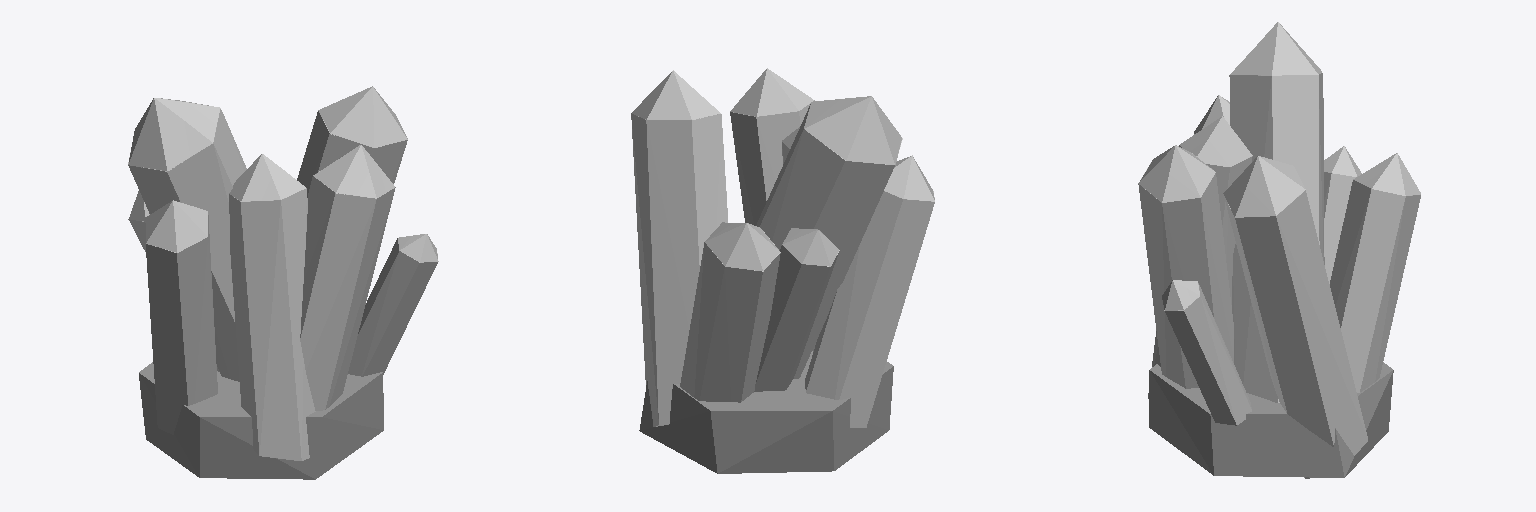
Rendered from solis_crystals2.obj.
3 renders of one model, left to right at view 1: azimuth 30°, elevation 25°; view 2: azimuth 150°, elevation 25°; view 3: azimuth 270°, elevation 25°, orthographic.
Visible parts, largest first — view 1: Cylinder.002_Cylinder.005, Cylinder.029_Cylinder.030, Cylinder.027_Cylinder.028, Cylinder.003_Cylinder.006, Cylinder.006_Cylinder.000, Cylinder.005_Cylinder.008, Cone.007_Cone.000, Cone.002_Cone.004, Cylinder.001_Cylinder.004, Cone.004_Cone.006, Cone.001, Cone.003_Cone.005 (+1 smaller); view 2: Cylinder.001_Cylinder.004, Cylinder.029_Cylinder.030, Cylinder.003_Cylinder.006, Cylinder.006_Cylinder.000, Cylinder.000_Cylinder.003, Cylinder.004_Cylinder.007, Cone.007_Cone.000, Cylinder.027_Cylinder.028, Cone.000_Cone.003, Cone.002_Cone.004, Cone.001, Cone.005_Cone.007 (+1 smaller); view 3: Cylinder.001_Cylinder.004, Cylinder.029_Cylinder.030, Cylinder.006_Cylinder.000, Cylinder.000_Cylinder.003, Cylinder.027_Cylinder.028, Cylinder.005_Cylinder.008, Cone.002_Cone.004, Cone.001, Cone.007_Cone.000, Cone.003_Cone.005, Cylinder.004_Cylinder.007, Cone.000_Cone.003 (+4 smaller).
Boxes of the visible parts, <box> form: Cylinder.002_Cylinder.005: <box>229,188,315,460</box>; Cylinder.029_Cylinder.030: <box>139,362,383,479</box>; Cylinder.027_Cylinder.028: <box>300,171,395,410</box>; Cylinder.003_Cylinder.006: <box>146,215,217,434</box>; Cylinder.006_Cylinder.000: <box>128,109,246,381</box>; Cylinder.005_Cylinder.008: <box>348,238,437,376</box>; Cone.007_Cone.000: <box>128,98,220,170</box>; Cone.002_Cone.004: <box>318,86,407,147</box>; Cylinder.001_Cylinder.004: <box>297,111,407,197</box>; Cone.004_Cone.006: <box>145,200,207,252</box>; Cone.001: <box>313,145,394,198</box>; Cone.003_Cone.005: <box>229,154,305,201</box>; Cylinder.001_Cylinder.004: <box>631,113,727,426</box>; Cylinder.029_Cylinder.030: <box>639,353,893,473</box>; Cylinder.003_Cylinder.006: <box>805,191,934,427</box>; Cylinder.006_Cylinder.000: <box>756,104,902,378</box>; Cylinder.000_Cylinder.003: <box>680,232,780,402</box>; Cylinder.004_Cylinder.007: <box>754,245,839,391</box>; Cone.007_Cone.000: <box>804,96,901,164</box>; Cylinder.027_Cylinder.028: <box>730,100,814,352</box>; Cone.000_Cone.003: <box>705,222,779,271</box>; Cone.002_Cone.004: <box>632,70,720,119</box>; Cone.001: <box>730,68,813,116</box>; Cone.005_Cone.007: <box>782,228,838,266</box>; Cylinder.001_Cylinder.004: <box>1223,190,1367,478</box>; Cylinder.029_Cylinder.030: <box>1149,362,1393,477</box>; Cylinder.006_Cylinder.000: <box>1229,73,1324,402</box>; Cylinder.000_Cylinder.003: <box>1330,180,1420,392</box>; Cylinder.027_Cylinder.028: <box>1138,153,1233,388</box>; Cylinder.005_Cylinder.008: <box>1164,283,1251,425</box>; Cone.002_Cone.004: <box>1223,156,1305,217</box>; Cone.001: <box>1138,145,1215,202</box>; Cone.007_Cone.000: <box>1230,22,1321,75</box>; Cone.003_Cone.005: <box>1180,116,1252,166</box>; Cylinder.004_Cylinder.007: <box>1324,172,1355,283</box>; Cone.000_Cone.003: <box>1353,153,1420,195</box>.
Bounding box in the file's own units: 0.7869 × 0.9983 × 0.6953.